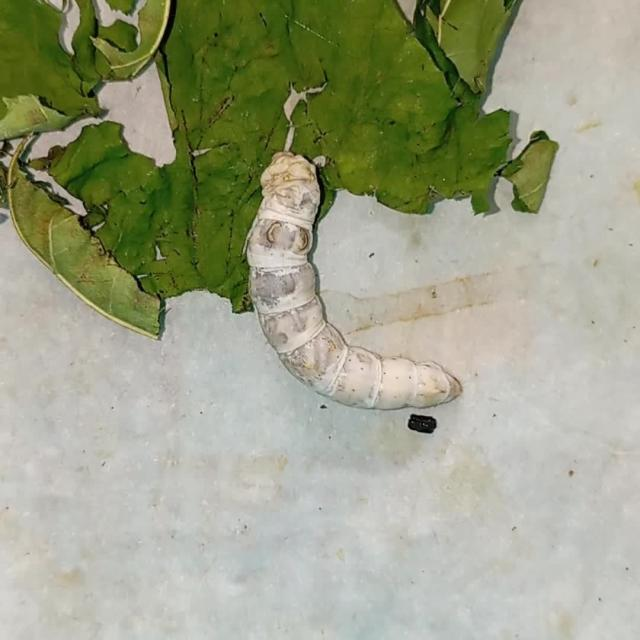Grasserie: (205, 126, 480, 431)
